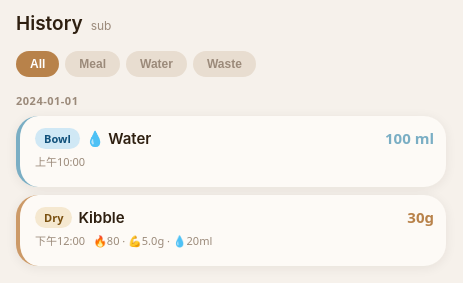
HistoryPage › filters by kind when a filter tab is clicked
Expected: the text "100 ml" is shown, 385,128 -> 434,148
Expected: the text "Kibble" is shown, 78,208 -> 124,227
# Filter to water only
Click the button "Water" at (156, 64), box 126,51 -> 187,77
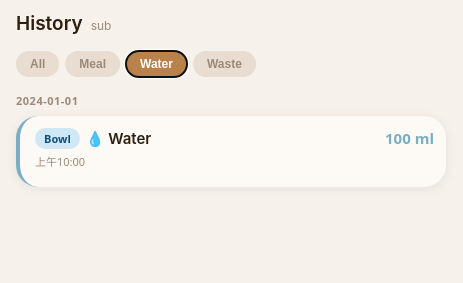
Expected: the text "100 ml" is shown, 385,128 -> 434,148
Result: the text "Kibble" is gone
